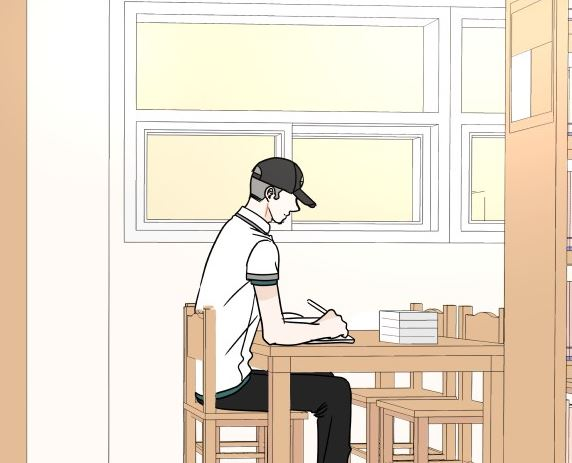hat: (251, 159, 318, 208)
